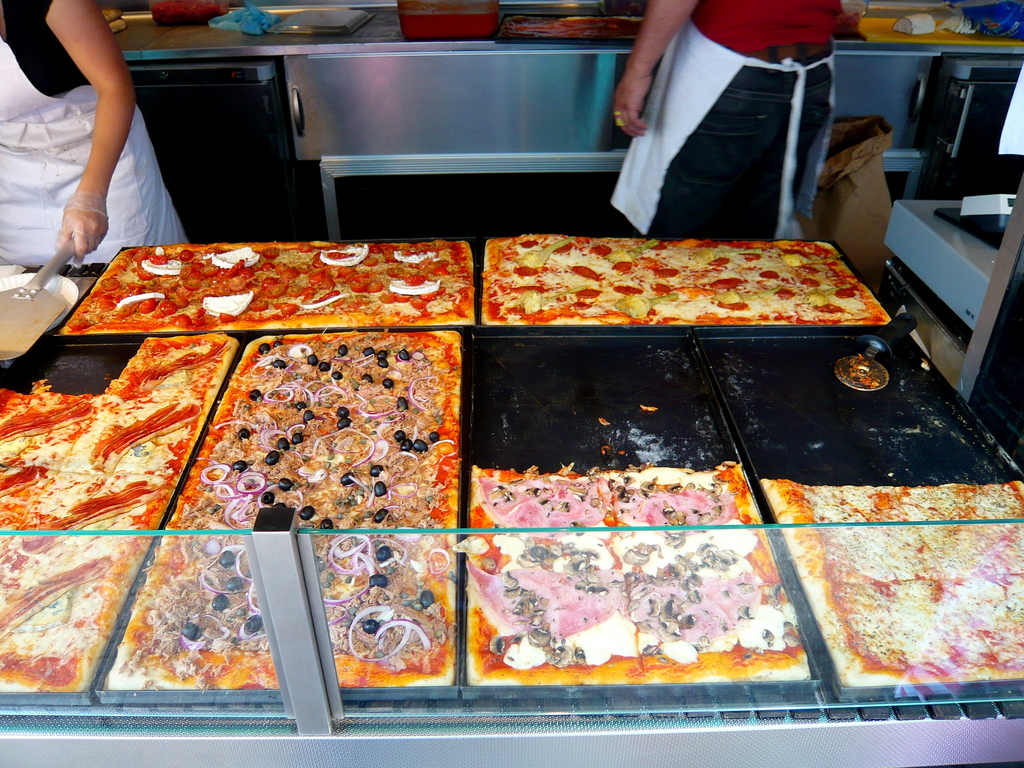Pizza: (106, 332, 461, 686), (0, 340, 241, 690), (472, 462, 813, 682), (417, 232, 906, 376), (759, 479, 1023, 682), (54, 240, 476, 334)
